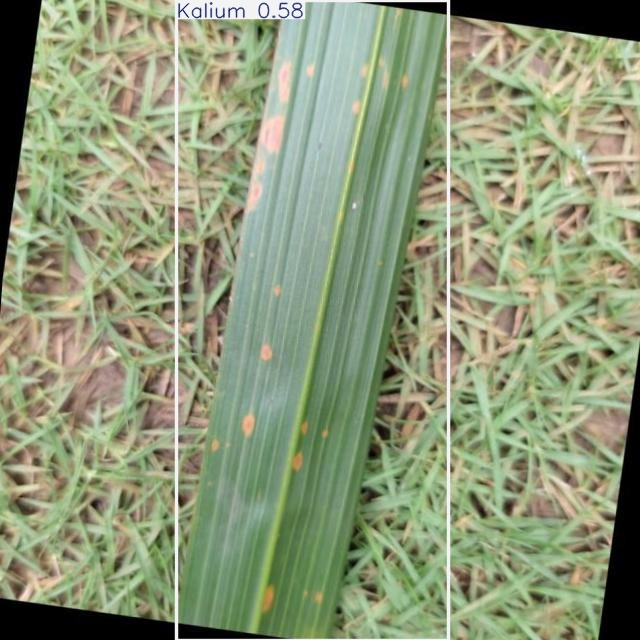Kalium: (176, 0, 449, 640)
